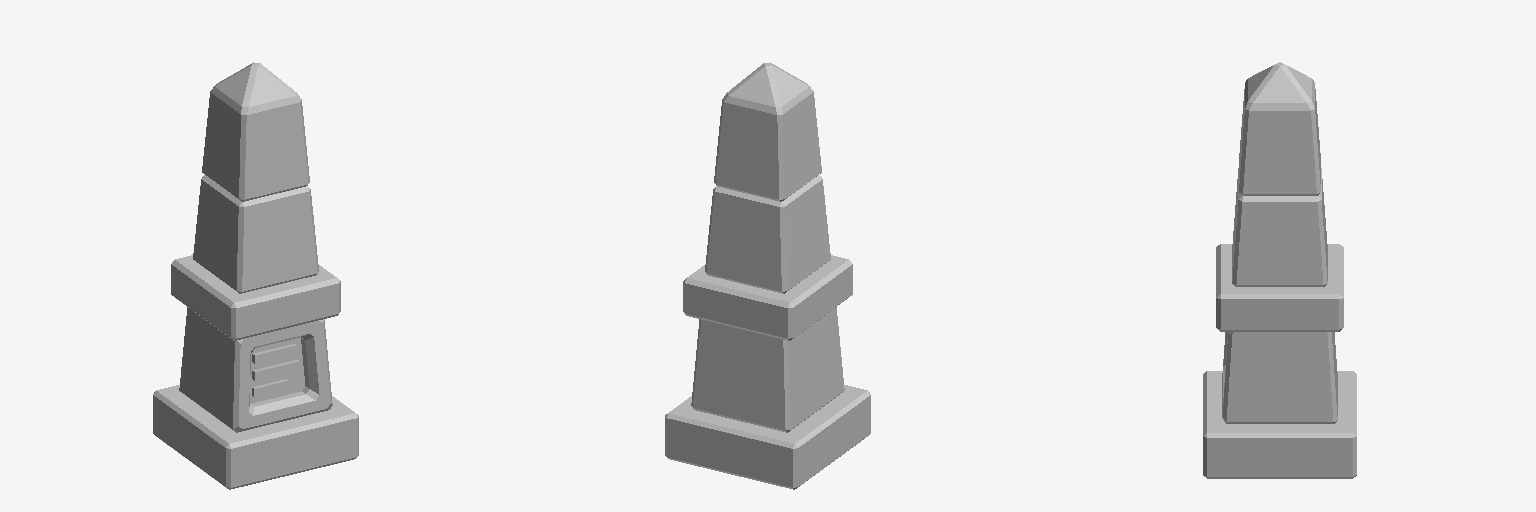
File: obelisk.obj
The picture shows the model from 3 angles: view 1: azimuth 30°, elevation 25°; view 2: azimuth 150°, elevation 25°; view 3: azimuth 270°, elevation 25°; orthographic projection.
Parts seen in each view (by area): view 1: Cube.001; view 2: Cube.001; view 3: Cube.001.
Part boxes in pixels (x1,y1,x2,y2): Cube.001: (153,62,358,489); Cube.001: (665,62,870,489); Cube.001: (1203,62,1356,478).
Size of the model in its own units: 2 by 5.5 by 2.